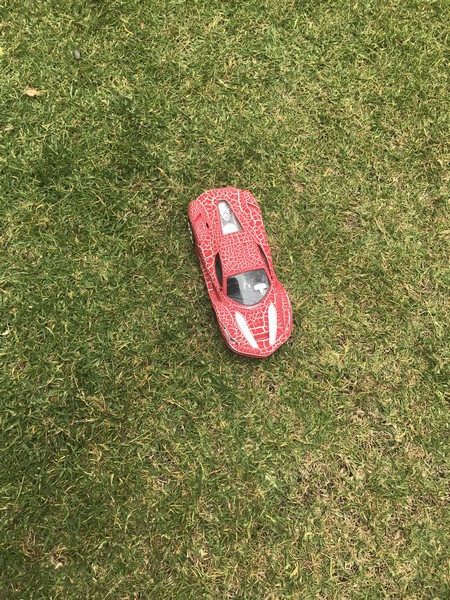RC: (185, 185, 295, 361)
